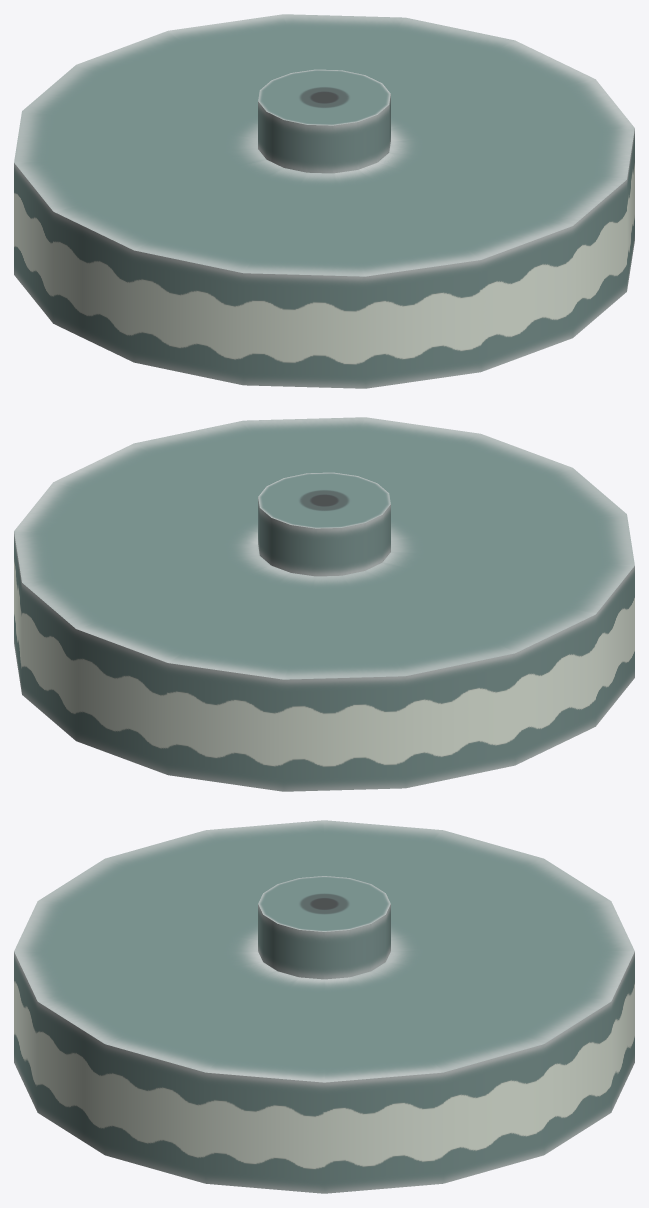
Rendered from PuckMesh.glb.
3 renders of one model, top to bottom at view 1: azimuth 30°, elevation 25°; view 2: azimuth 150°, elevation 25°; view 3: azimuth 270°, elevation 25°, orthographic.
Parts seen in each view (by area): view 1: MagnetPuck; view 2: MagnetPuck; view 3: MagnetPuck.
Part boxes in pixels (x1,y1,x2,y2): MagnetPuck: [14, 14, 634, 388]; MagnetPuck: [14, 417, 634, 791]; MagnetPuck: [14, 820, 634, 1193].
Size of the model in its own units: 2 by 0.5636 by 2.
Materials: 1 (1 with a texture image).
